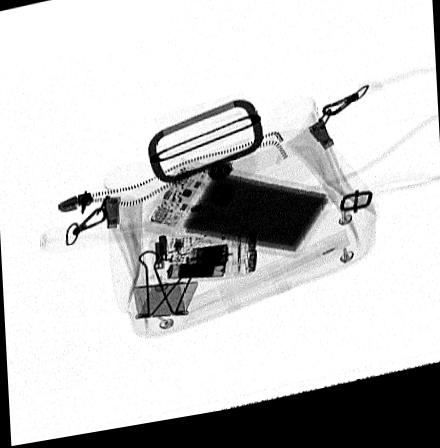Powerbank: (146, 164, 336, 269)
